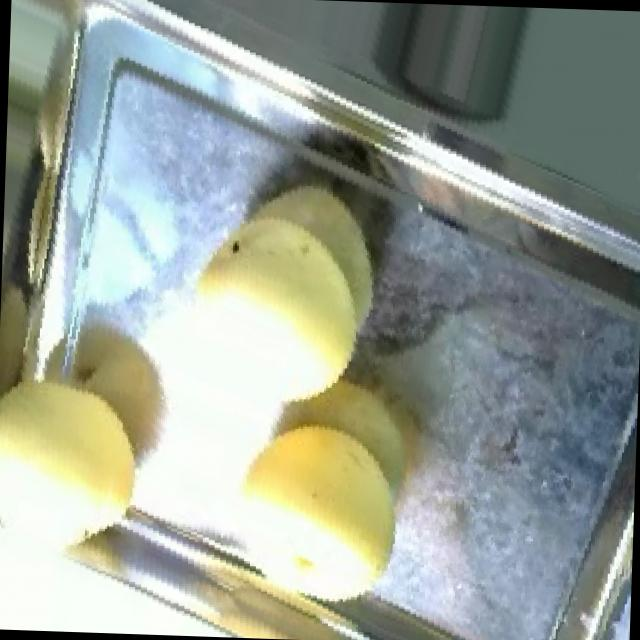Fruit: (166, 154, 416, 408), (208, 390, 438, 604), (0, 315, 166, 545)
